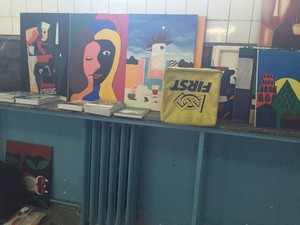cube: (162, 65, 221, 130)
